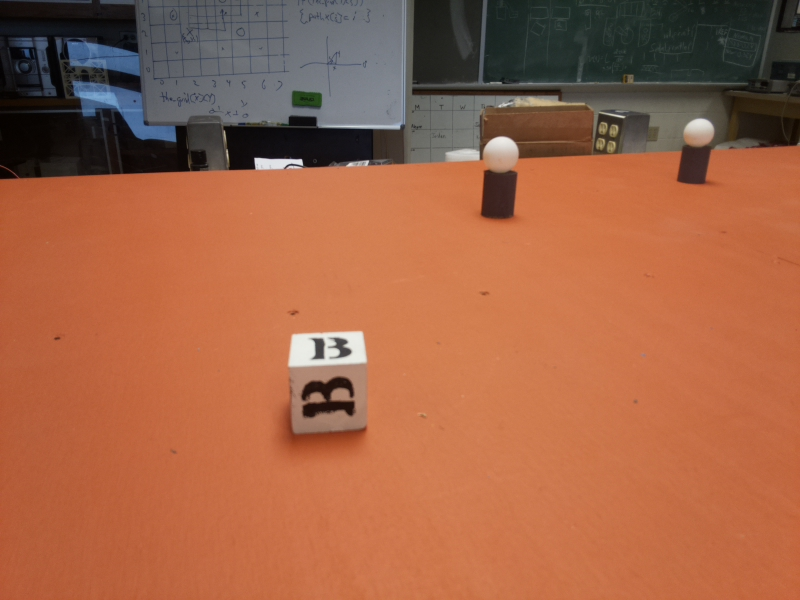blockB: (286, 324, 371, 440)
obstacle: (477, 135, 521, 221), (671, 116, 716, 189)
